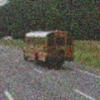buses: (23, 28, 75, 68)
